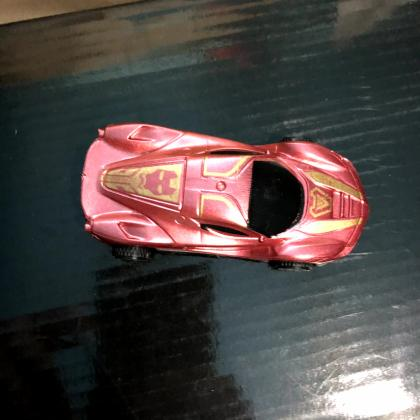Car: (76, 119, 373, 274)
